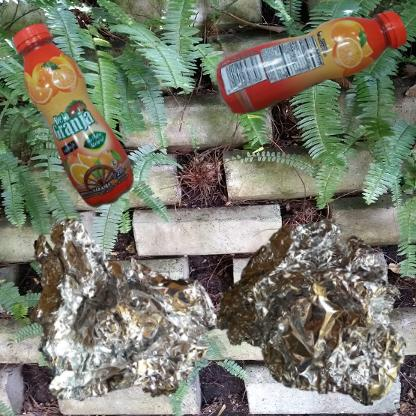aluminio: (10, 213, 233, 416), (213, 213, 412, 407)
botella: (10, 10, 156, 246), (213, 10, 412, 115)
